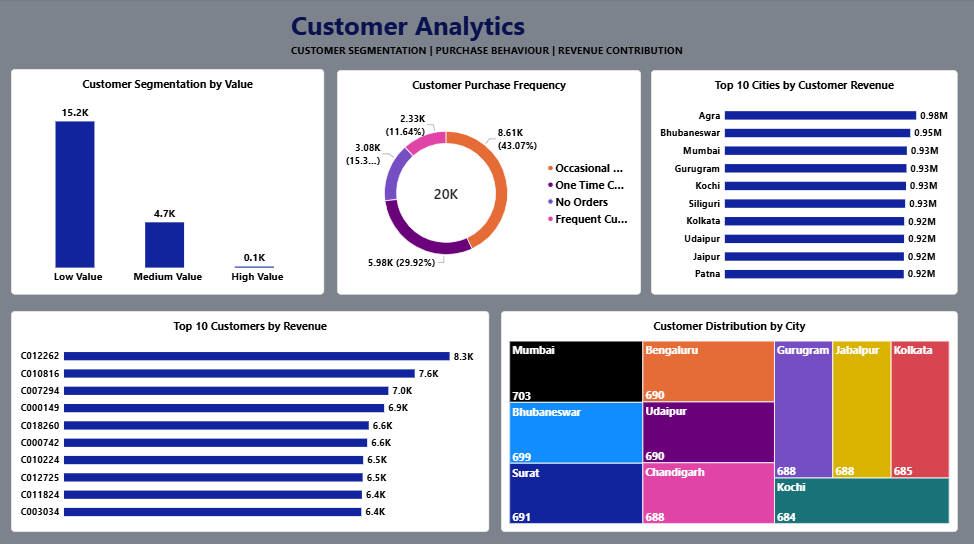

The page's visual inventory and layout, read from the dashboard file:
{"tool":"powerbi","page":{"name":"Customer Analysis","canvas":[1920,1080],"ordinal":2},"visuals":[{"type":"columnChart","title":"Customer Segmentation by Value","fields":{"Category":["customers.Customer Segment"],"Y":["CountNonNull(customers.customer_id)"]},"box":[26.4,138.9,614.9,443],"z":0},{"type":"clusteredBarChart","title":"Top 10 Customers by Revenue","fields":{"Category":["customers.customer_id"],"Y":["Sum(customers.Customer Revenue)"]},"box":[26.4,614.9,938.9,434.2],"z":1000},{"type":"donutChart","title":"Customer Purchase Frequency","fields":{"Category":["customers.Purchase Frequency"],"Y":["CountNonNull(customers.customer_id)"]},"box":[665.6,141.1,597.3,440.8],"z":2000},{"type":"clusteredBarChart","title":"Top 10 Cities by Customer Revenue","fields":{"Category":["customers.city"],"Y":["Sum(customers.Customer Revenue)"]},"box":[1282.8,141.1,601.7,440.8],"z":3000},{"type":"treemap","title":"\tCustomer Distribution by City","fields":{"Group":["customers.city"],"Values":["Count(customers.customer_id)"]},"box":[987.4,614.9,897.1,434.2],"z":4000},{"type":"textbox","title":"Customer Analytics","box":[575.3,17.6,780.2,97],"z":5000}]}

Visuals, with their boxes in screenshot pixels (x1, y1, x2, y2), scaled from the page's 1920x1080 canvas onto the 974x544 screenshot:
"Customer Segmentation by Value" columnChart: (13, 70, 325, 293)
"Top 10 Customers by Revenue" clusteredBarChart: (13, 310, 490, 528)
"Customer Purchase Frequency" donutChart: (338, 71, 641, 293)
"Top 10 Cities by Customer Revenue" clusteredBarChart: (651, 71, 956, 293)
"	Customer Distribution by City" treemap: (501, 310, 956, 528)
"Customer Analytics" textbox: (292, 9, 688, 58)
